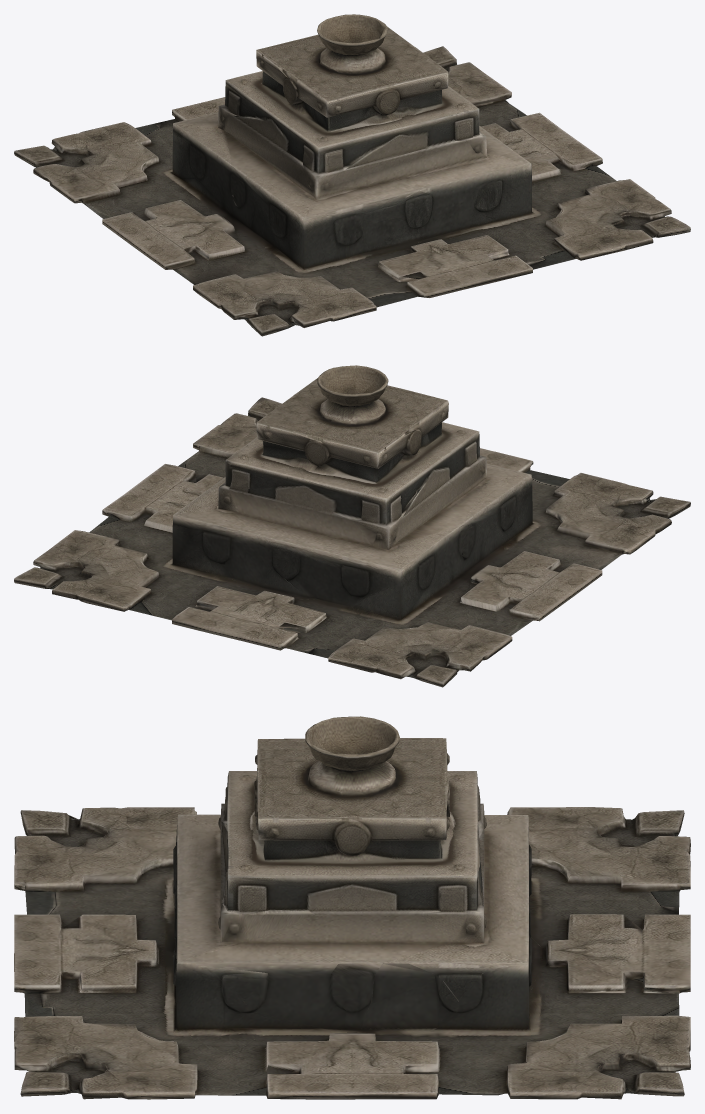
File: plinth.glb
3 renders of one model, top to bottom at view 1: azimuth 30°, elevation 25°; view 2: azimuth 150°, elevation 25°; view 3: azimuth 270°, elevation 25°, orthographic. The views are drawn at different scales.
Bounding box in the file's own units: 1.9 × 0.6881 × 1.9.
Materials: 1 (1 with a texture image).
